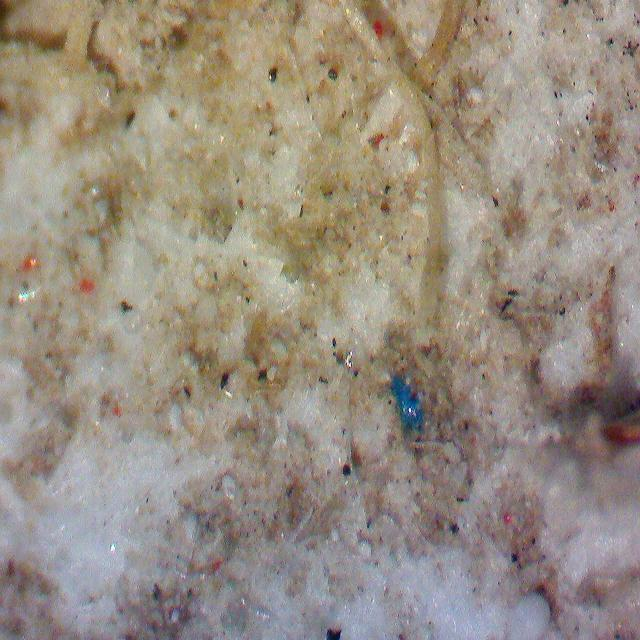microplastic: (390, 374, 424, 432)
